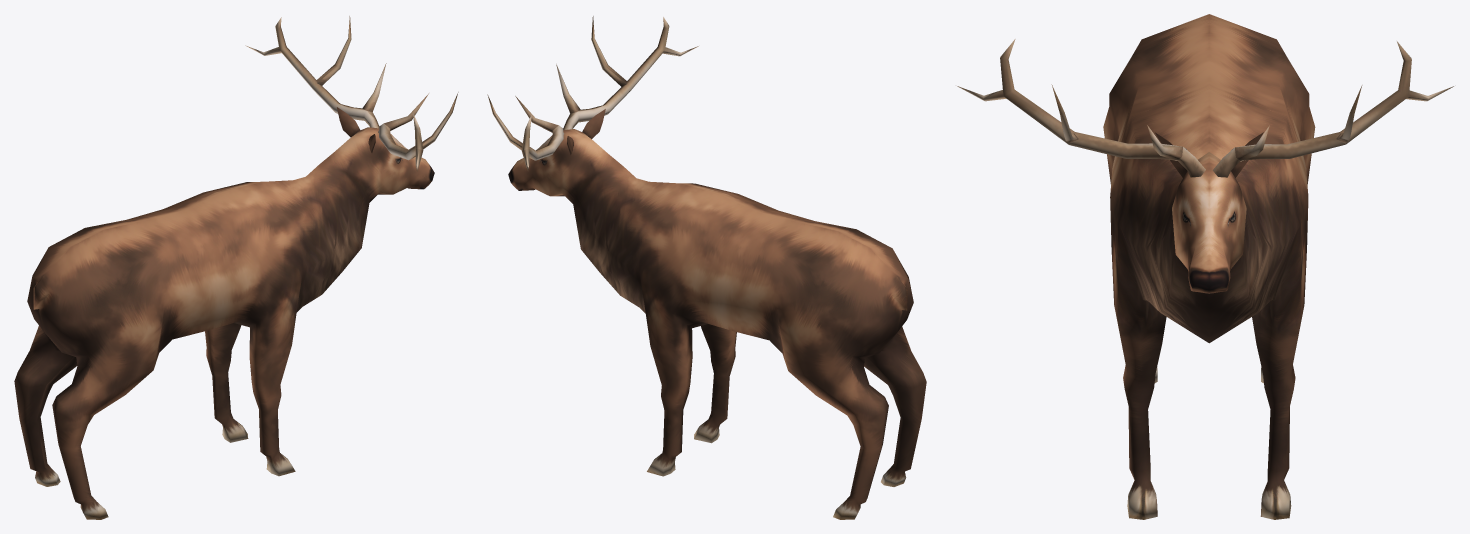
The model's file is deer.fbx.
3 renders of one model, left to right at view 1: azimuth 30°, elevation 25°; view 2: azimuth 150°, elevation 25°; view 3: azimuth 270°, elevation 25°, orthographic. The views are drawn at different scales.
Visible parts, largest first — view 1: deer; view 2: deer; view 3: deer.
Part boxes in pixels (bbox=[...]): deer: bbox=[14, 16, 458, 519]; deer: bbox=[487, 16, 926, 519]; deer: bbox=[957, 14, 1453, 519].
Bounding box in the file's own units: 210 × 187 × 158.
Materials: 1 (1 with a texture image).
